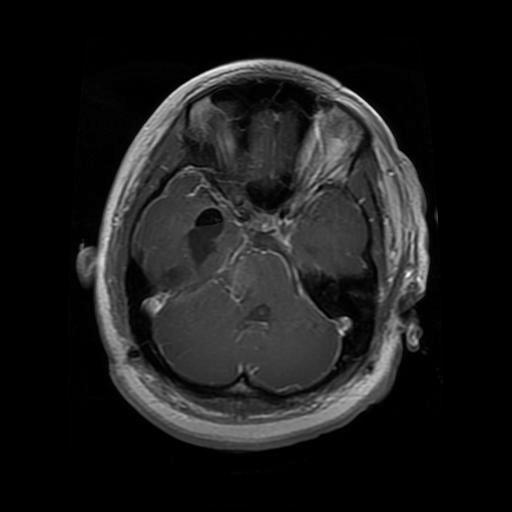Tumour-Glioma: (182, 198, 231, 270)
